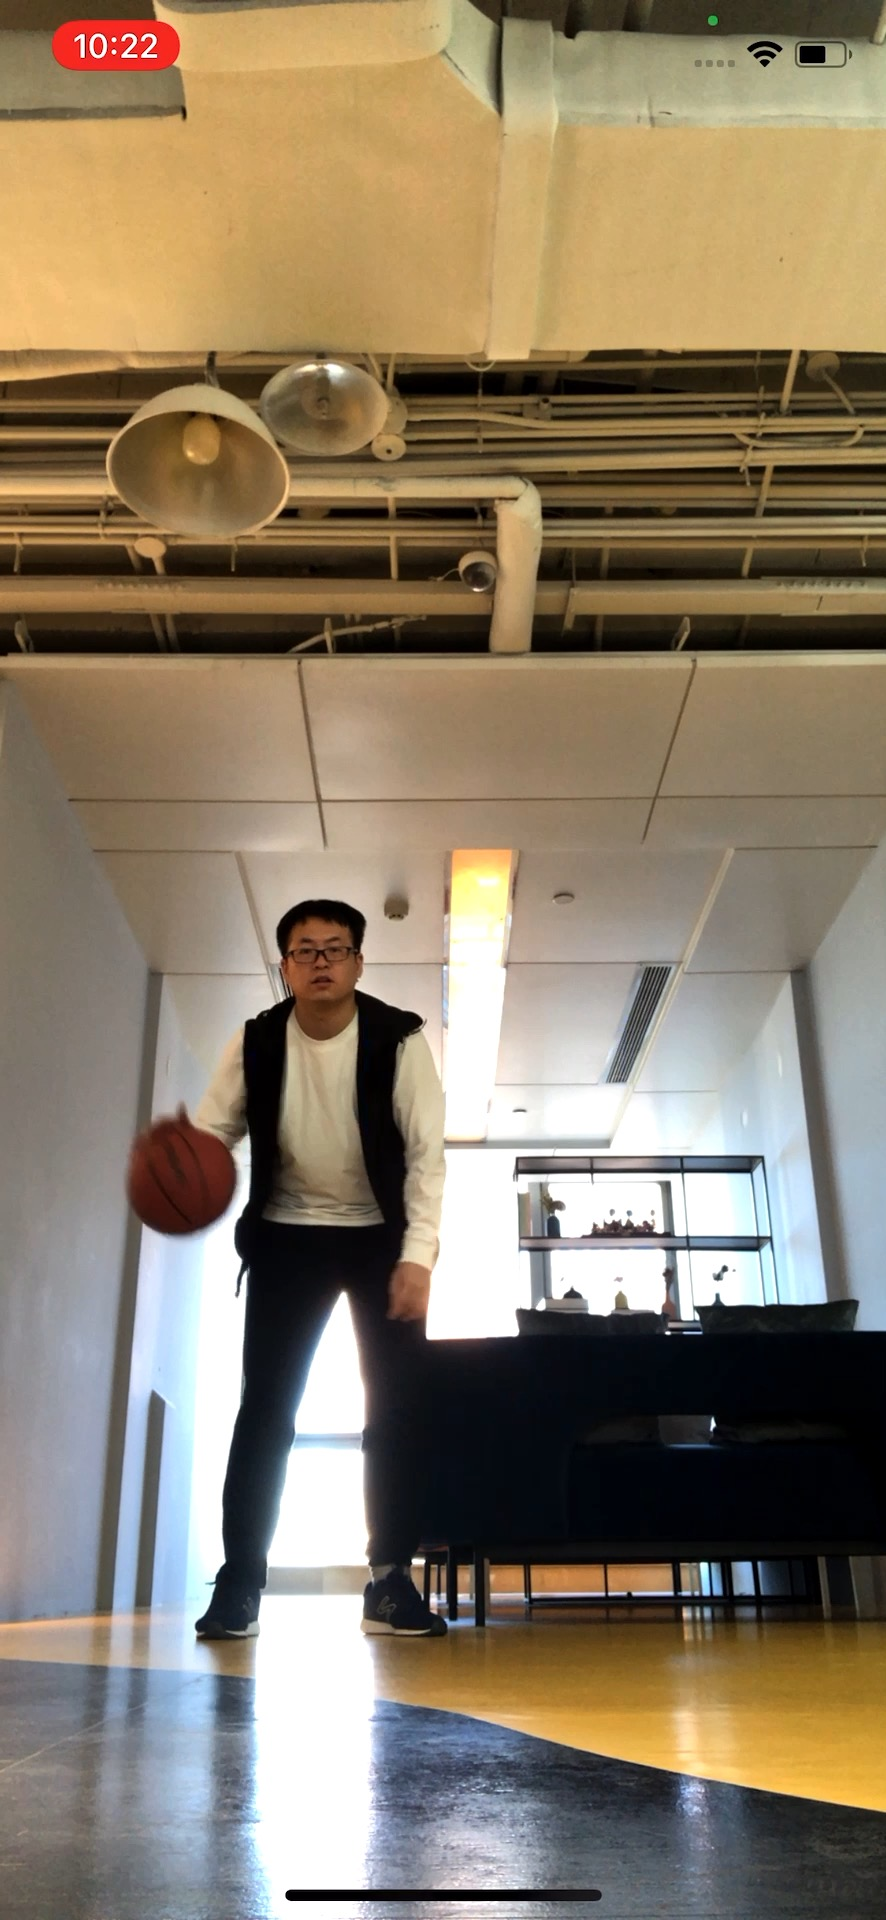ball: (117, 1119, 244, 1233)
